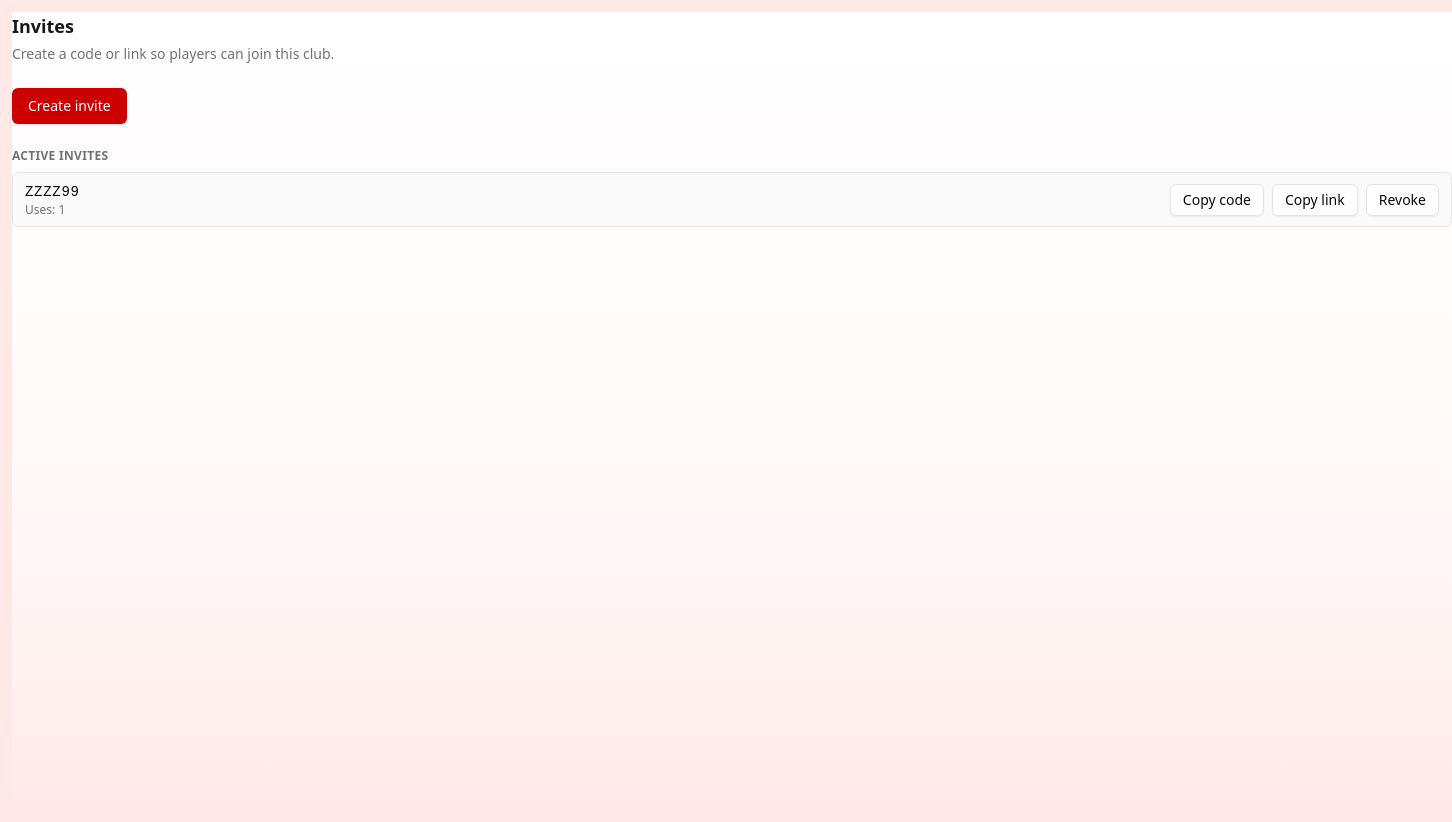
Test: ClubInvitesPanel › copies the invite URL from an active invite row
Click the button "Copy link": (1315, 200) [1272,184,1358,216]
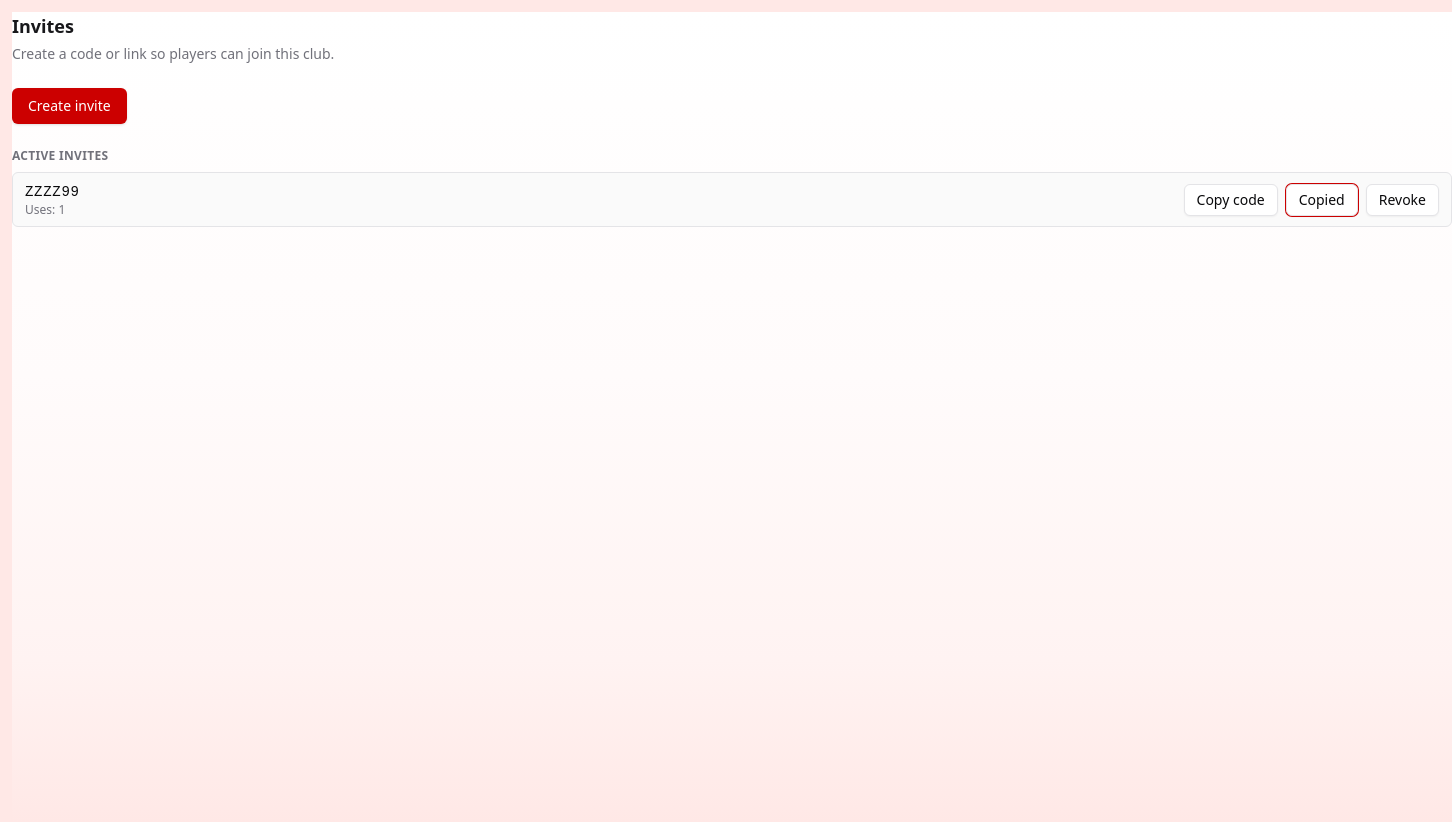
Now the button "Copied" is shown, box [1286,184,1358,216]
